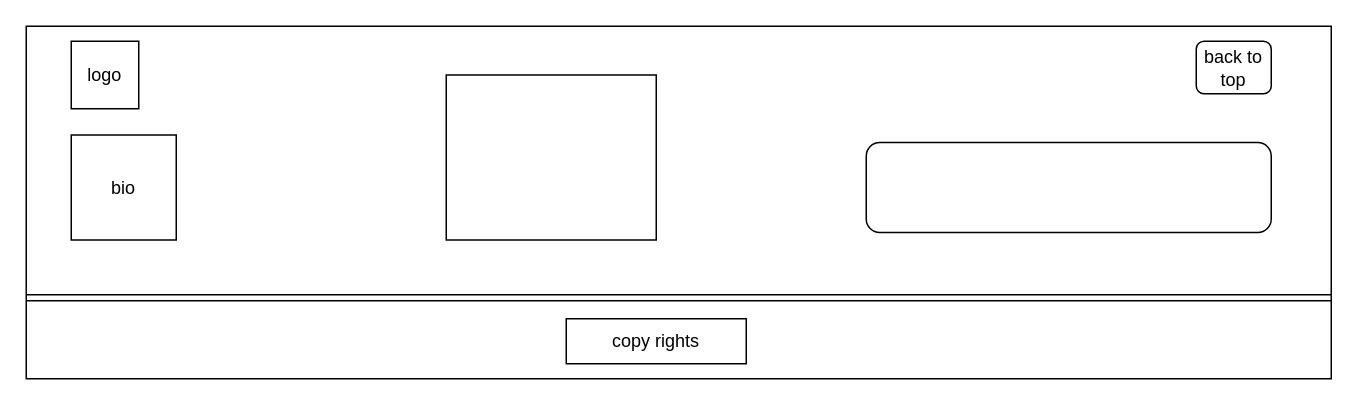
This 1358x405 diagram has some shape labels left out. Here are the shapes that lost their labels. From the top down, the centre of each, then its label:
(550,157): nav links
(1068,186): social links
